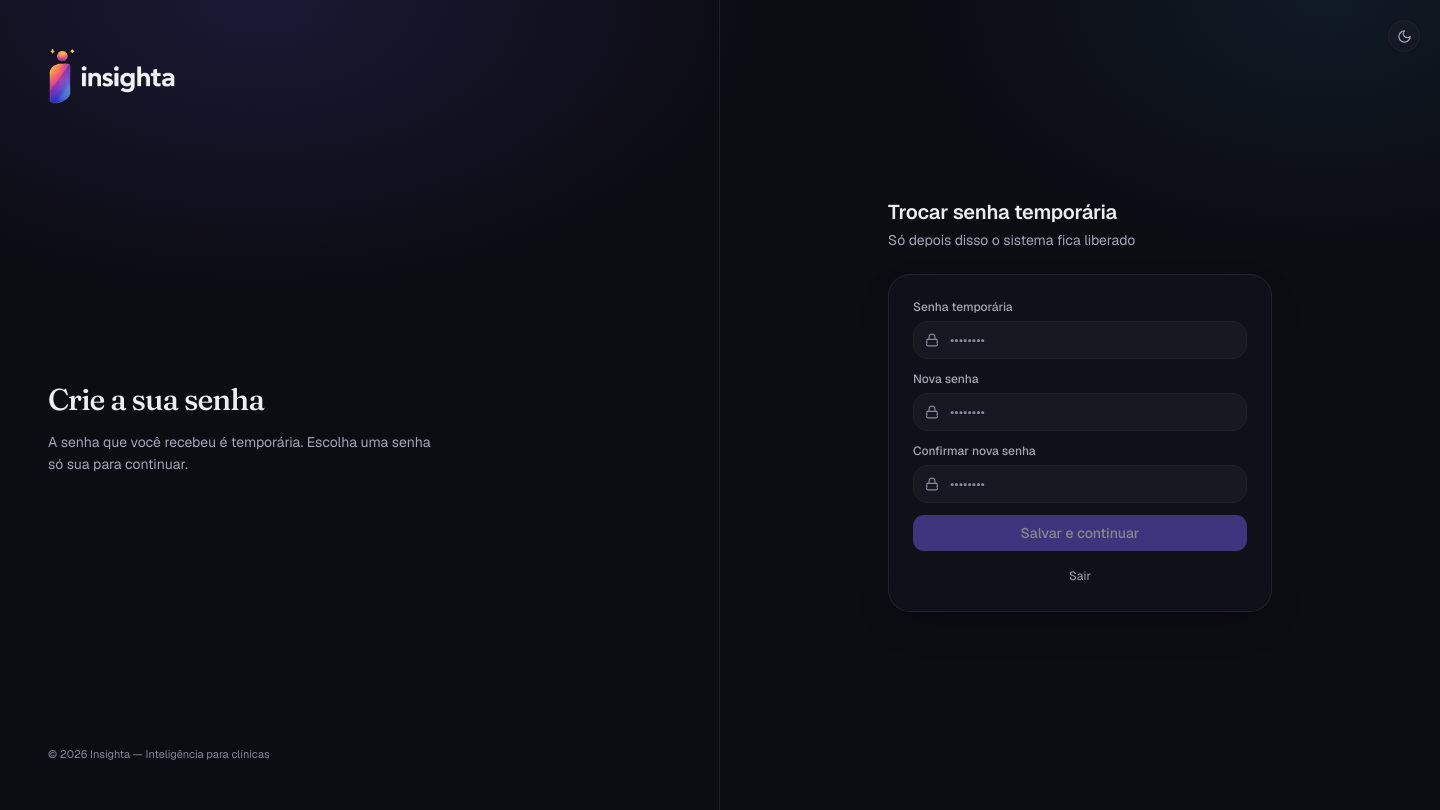
Test: ChangeTemporaryPasswordPage › não envia quando a confirmação não confere
The width and height of the screenshot is (1440, 810).
Step 1. Type "Temp-1234abcd" into the password field labelled "Senha temporária" → (1080, 340), box [913,321,1247,359]
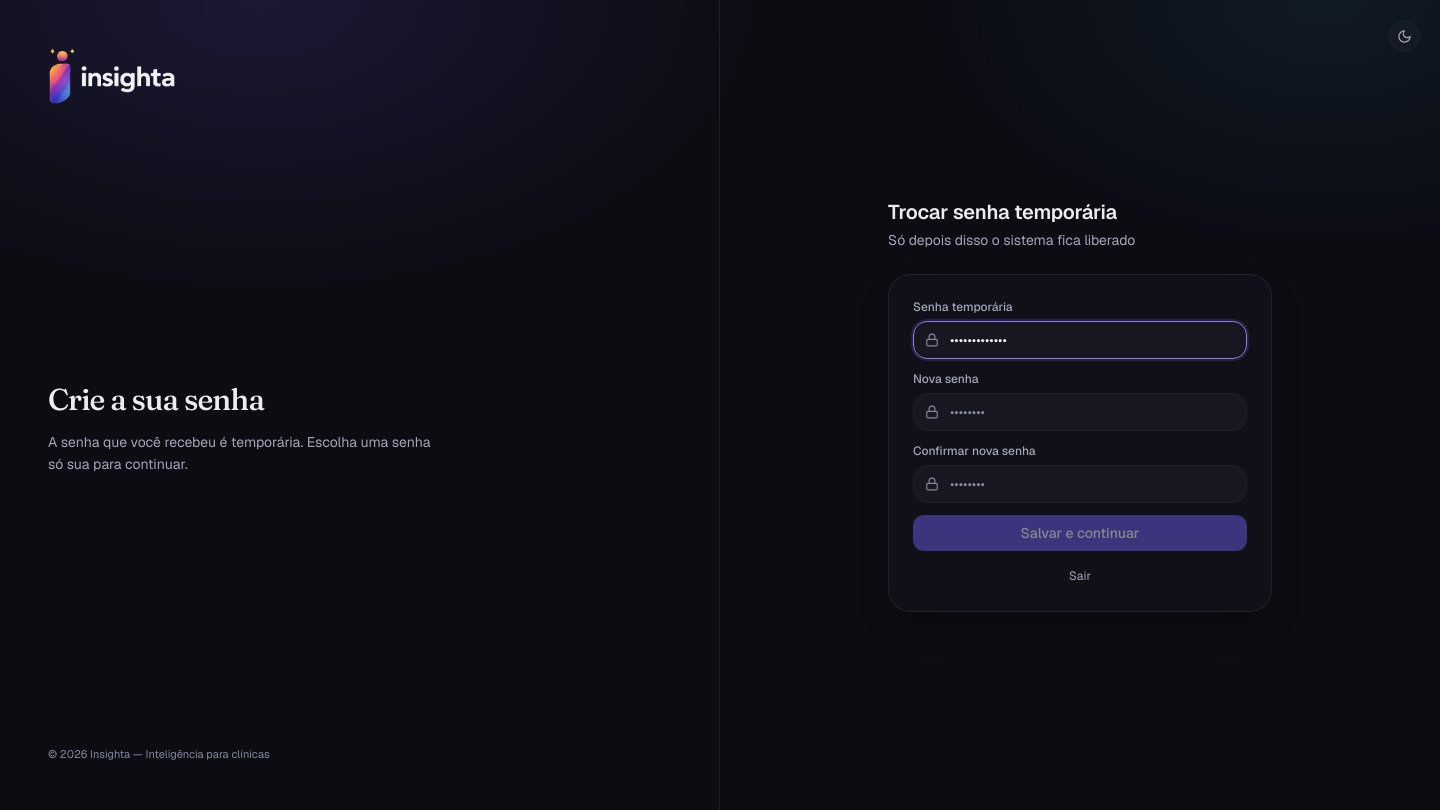
Step 2. Type "senha-forte-123" into the password field labelled "Nova senha" → (1080, 412), box [913,393,1247,431]
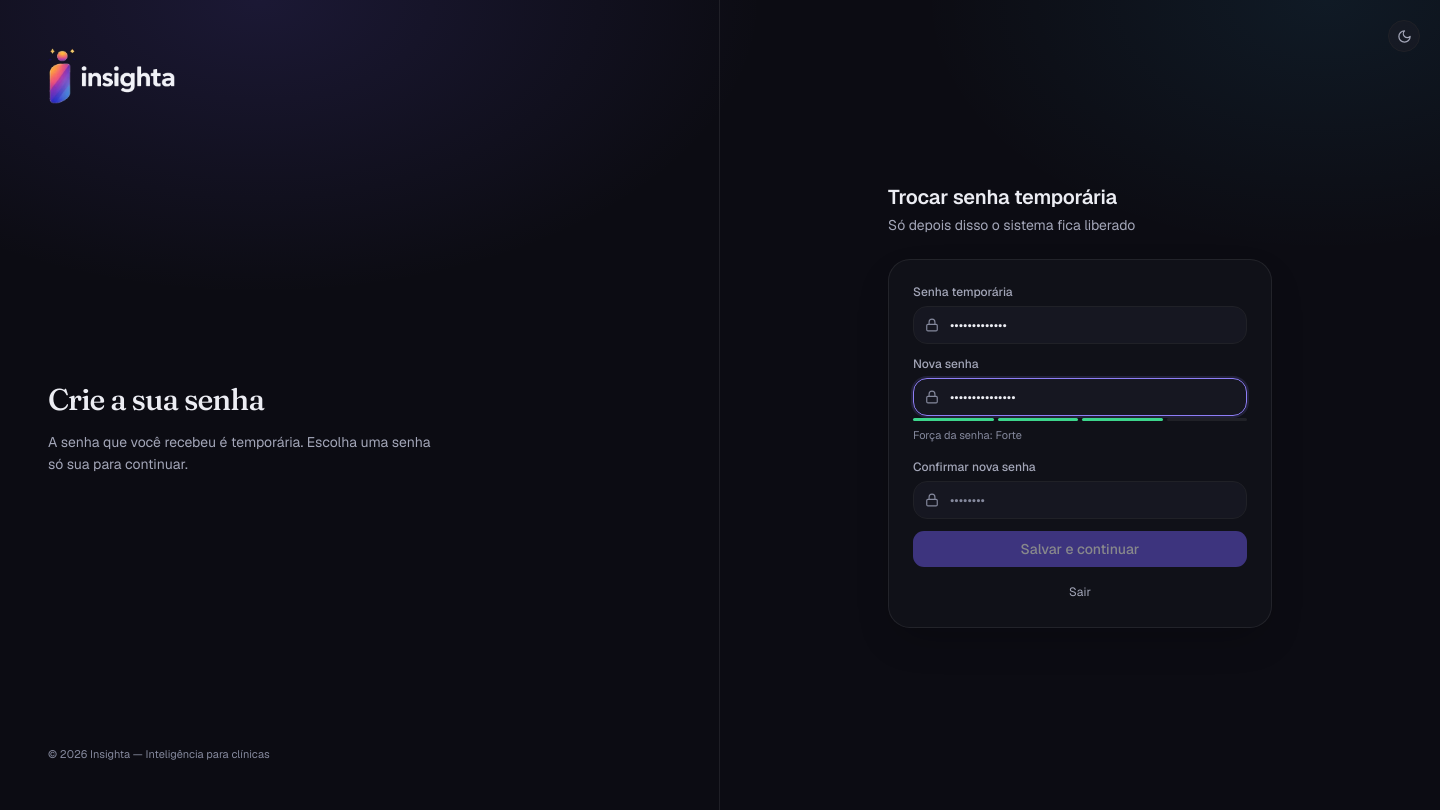
Step 3. Type "outra-senha-99" into the password field labelled "Confirmar nova senha" → (1080, 500), box [913,480,1247,518]
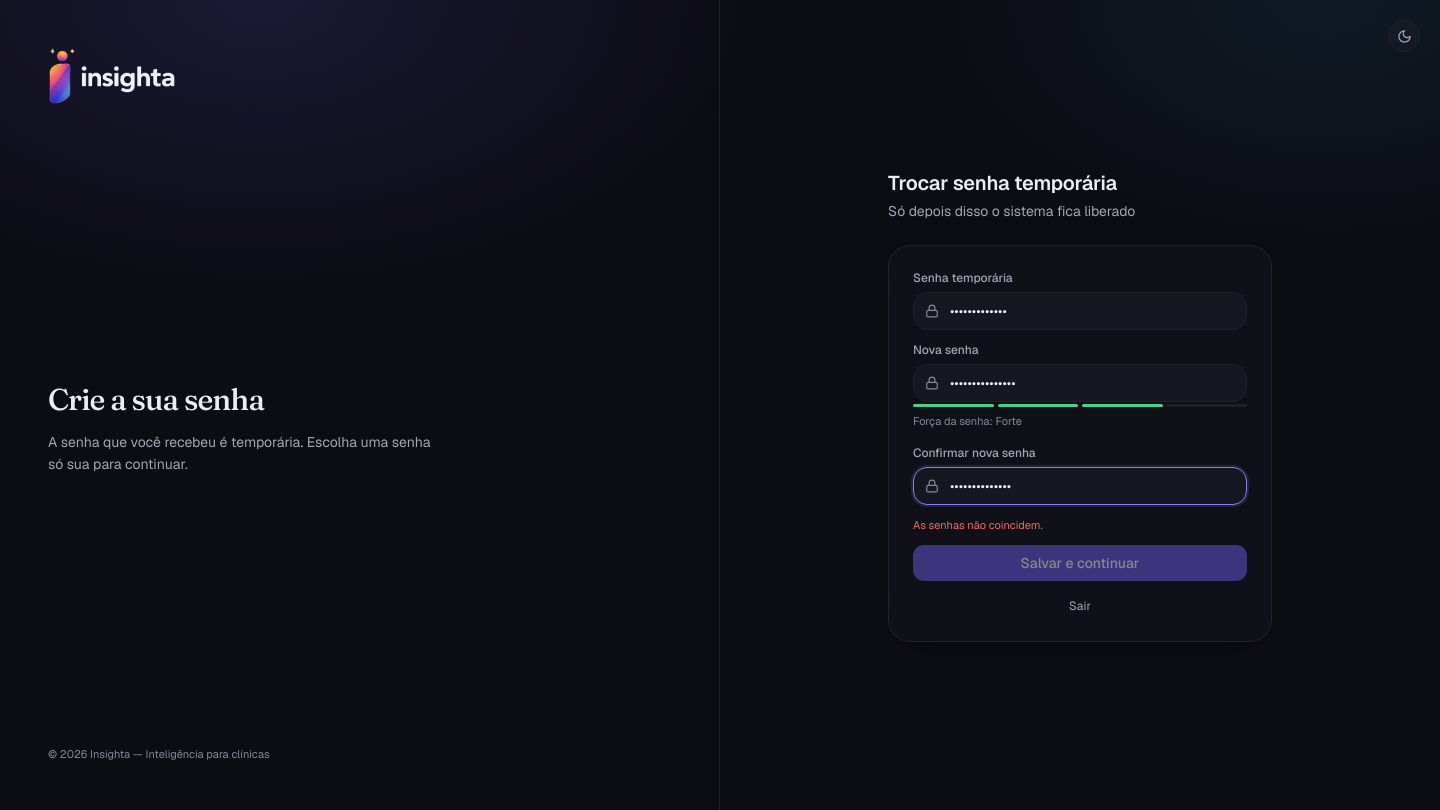
expect the button "Salvar e continuar" is disabled: met, box [913,544,1247,580]
expect the text "As senhas não coincidem." is shown: met, box [913,518,1043,532]
